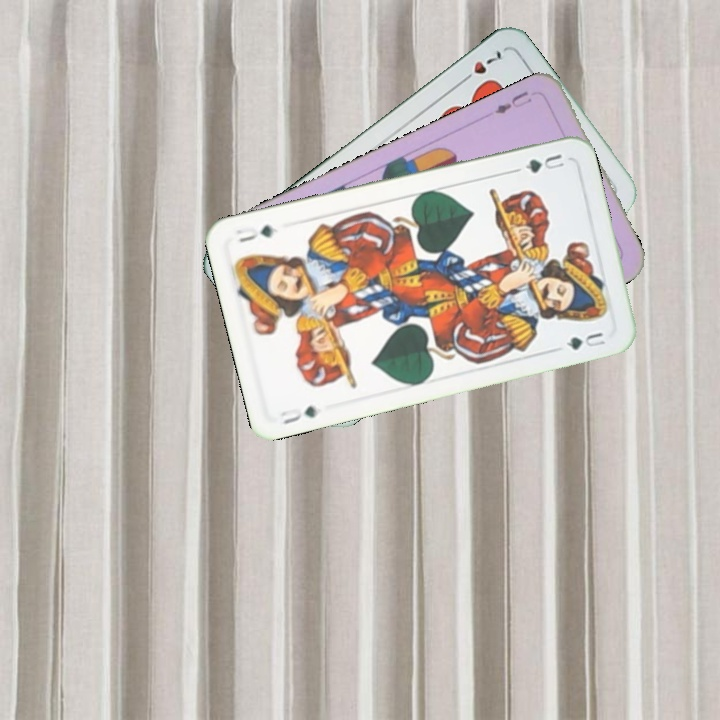EU: (490, 87, 535, 117)
GU: (521, 149, 568, 176), (276, 401, 321, 427)
H7: (456, 46, 508, 86)
